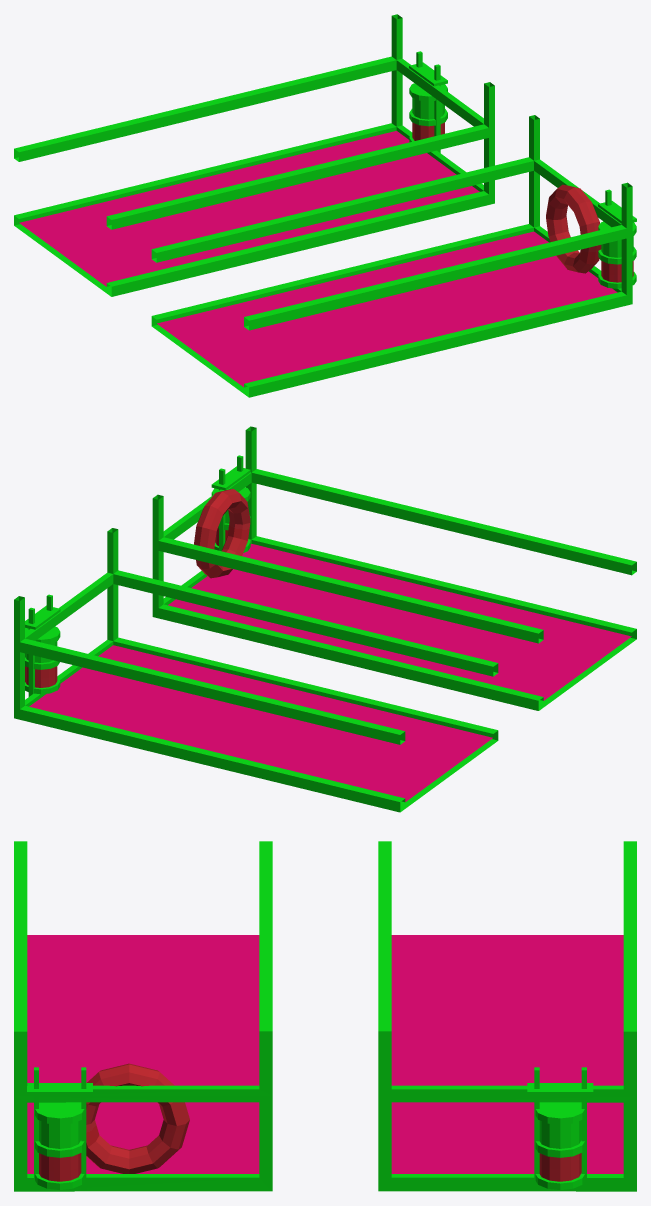
The model's file is Bridge_Platform00.fbx.
The picture shows the model from 3 angles, top to bottom: view 1: azimuth 30°, elevation 25°; view 2: azimuth 150°, elevation 25°; view 3: azimuth 270°, elevation 25°; orthographic projection. The views are drawn at different scales.
Visible parts, largest first — view 1: SM_City_Bridge_Platform_01.mo; view 2: SM_City_Bridge_Platform_01.mo; view 3: SM_City_Bridge_Platform_01.mo.
Boxes of the visible parts, bbox=[...] form: SM_City_Bridge_Platform_01.mo: bbox=[14, 14, 636, 397]; SM_City_Bridge_Platform_01.mo: bbox=[14, 426, 636, 812]; SM_City_Bridge_Platform_01.mo: bbox=[14, 841, 636, 1191].
Bounding box in the file's own units: 359 × 101 × 364.
